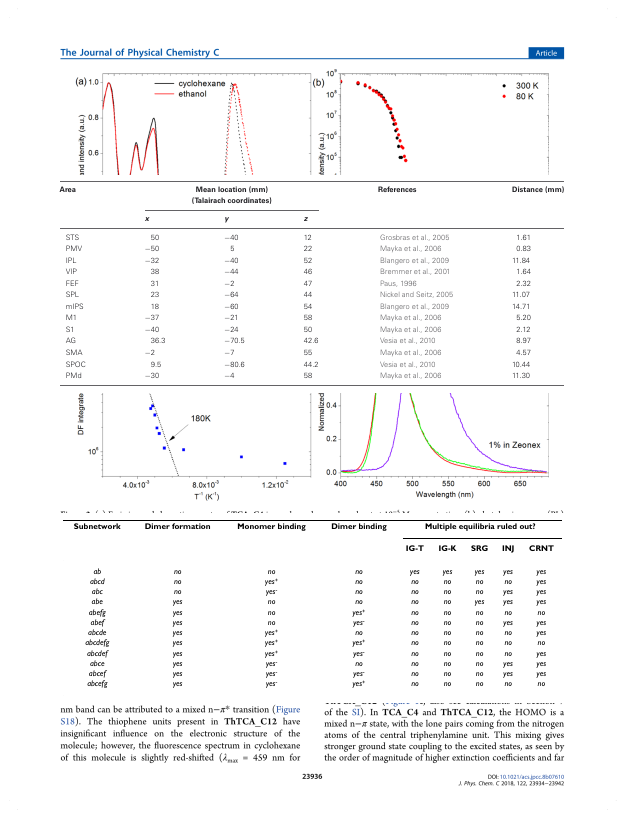borderless: (59, 180, 564, 385), (61, 518, 563, 697)
cell: (191, 186, 273, 206), (423, 523, 536, 532), (379, 291, 454, 300), (379, 269, 451, 278), (379, 234, 450, 243), (379, 257, 450, 266), (379, 303, 450, 312), (236, 523, 306, 532), (143, 523, 211, 532), (379, 326, 442, 335), (379, 349, 442, 358), (379, 372, 442, 381), (379, 338, 436, 347), (379, 361, 436, 370), (330, 523, 387, 532), (379, 246, 442, 254), (379, 315, 442, 323), (72, 523, 121, 532), (511, 186, 565, 194), (379, 280, 418, 289), (377, 186, 418, 194), (528, 545, 554, 554), (84, 639, 110, 648), (85, 649, 108, 659), (223, 338, 246, 347), (223, 361, 246, 370), (65, 361, 87, 370), (86, 680, 108, 689), (87, 608, 106, 618), (511, 257, 531, 266), (511, 291, 531, 300), (65, 303, 85, 312), (511, 303, 531, 312), (511, 361, 531, 370), (511, 372, 531, 381), (404, 545, 424, 554), (437, 545, 457, 554), (469, 545, 489, 554), (87, 629, 107, 638), (87, 670, 106, 679), (88, 577, 105, 587), (88, 659, 105, 669), (65, 349, 83, 358), (65, 372, 83, 381), (89, 618, 105, 628), (223, 234, 240, 243), (515, 234, 532, 243), (223, 257, 240, 266), (223, 269, 240, 278), (515, 269, 532, 278), (515, 280, 532, 289), (223, 291, 240, 300), (223, 303, 240, 312), (223, 315, 240, 324), (223, 326, 240, 335), (515, 338, 532, 347), (515, 349, 532, 358), (58, 186, 77, 194), (264, 577, 279, 587), (351, 608, 366, 618), (264, 649, 279, 659), (65, 246, 83, 254), (144, 257, 160, 266), (144, 315, 160, 324), (144, 326, 160, 335), (515, 326, 531, 335), (150, 338, 166, 347), (303, 338, 319, 347), (303, 361, 319, 370), (144, 372, 160, 381), (264, 659, 278, 669), (515, 246, 532, 254), (515, 315, 532, 323), (65, 234, 80, 243), (65, 280, 80, 289), (65, 291, 80, 300), (500, 545, 515, 554), (264, 629, 279, 638), (264, 639, 279, 648), (351, 639, 366, 648), (351, 680, 366, 689), (352, 618, 365, 628), (352, 649, 365, 659), (144, 246, 160, 254), (264, 588, 278, 597), (264, 670, 278, 679), (264, 680, 278, 689), (441, 567, 453, 577), (473, 567, 485, 577), (535, 567, 547, 577), (535, 577, 547, 587), (171, 608, 183, 618), (171, 618, 183, 628), (535, 618, 547, 628), (171, 649, 183, 659), (535, 649, 547, 659), (171, 659, 183, 669), (535, 659, 547, 669), (65, 257, 78, 266), (65, 269, 78, 278), (65, 315, 78, 324), (90, 588, 103, 597), (90, 598, 103, 607), (352, 670, 365, 679), (409, 567, 420, 577), (502, 567, 513, 577), (502, 618, 513, 628), (502, 659, 513, 669), (223, 280, 235, 289), (65, 338, 77, 347), (144, 349, 156, 358), (223, 349, 235, 358), (150, 361, 162, 370), (223, 372, 235, 381), (535, 588, 547, 597), (171, 598, 183, 607), (473, 598, 485, 607), (535, 598, 547, 607), (171, 629, 183, 638), (535, 629, 547, 638), (171, 639, 183, 648), (171, 670, 183, 679), (535, 670, 547, 679), (171, 680, 183, 689), (92, 567, 102, 577), (172, 567, 182, 577), (266, 567, 276, 577), (172, 577, 182, 587), (442, 577, 452, 587), (474, 577, 484, 587), (266, 608, 276, 618), (442, 608, 452, 618), (474, 608, 484, 618), (536, 608, 546, 618), (266, 618, 276, 628), (442, 618, 452, 628), (474, 618, 484, 628), (442, 649, 452, 659), (474, 649, 484, 659), (442, 659, 452, 669), (474, 659, 484, 669), (502, 588, 513, 597), (502, 598, 513, 607), (502, 670, 513, 679), (150, 234, 160, 243), (303, 234, 313, 243), (303, 257, 313, 266), (150, 269, 160, 278), (303, 269, 313, 278), (150, 280, 160, 289), (303, 280, 313, 289), (150, 291, 160, 300), (303, 291, 313, 300), (150, 303, 160, 312), (303, 303, 313, 312), (303, 315, 313, 324), (65, 326, 75, 335), (303, 326, 313, 335), (303, 349, 313, 358), (303, 372, 313, 381), (354, 567, 363, 577), (354, 577, 363, 587), (410, 577, 419, 587), (503, 577, 512, 587), (172, 588, 182, 597), (442, 588, 452, 597), (474, 588, 484, 597), (266, 598, 276, 607), (442, 598, 452, 607), (410, 608, 419, 618), (503, 608, 512, 618), (410, 618, 419, 628), (442, 629, 452, 638), (474, 629, 484, 638), (442, 639, 452, 648), (474, 639, 484, 648), (536, 639, 546, 648), (410, 649, 419, 659), (503, 649, 512, 659), (354, 659, 363, 669), (410, 659, 419, 669), (442, 670, 452, 679), (474, 670, 484, 679), (442, 680, 452, 689), (474, 680, 484, 689), (536, 680, 546, 689), (354, 588, 363, 597), (410, 588, 419, 597), (354, 598, 363, 607), (410, 598, 419, 607), (354, 629, 363, 638), (410, 629, 419, 638), (503, 629, 512, 638), (410, 639, 419, 648), (503, 639, 512, 648), (410, 670, 419, 679), (410, 680, 419, 689), (503, 680, 512, 689), (303, 246, 313, 254), (229, 246, 235, 254), (144, 217, 150, 224), (223, 217, 229, 224), (303, 217, 308, 224)
